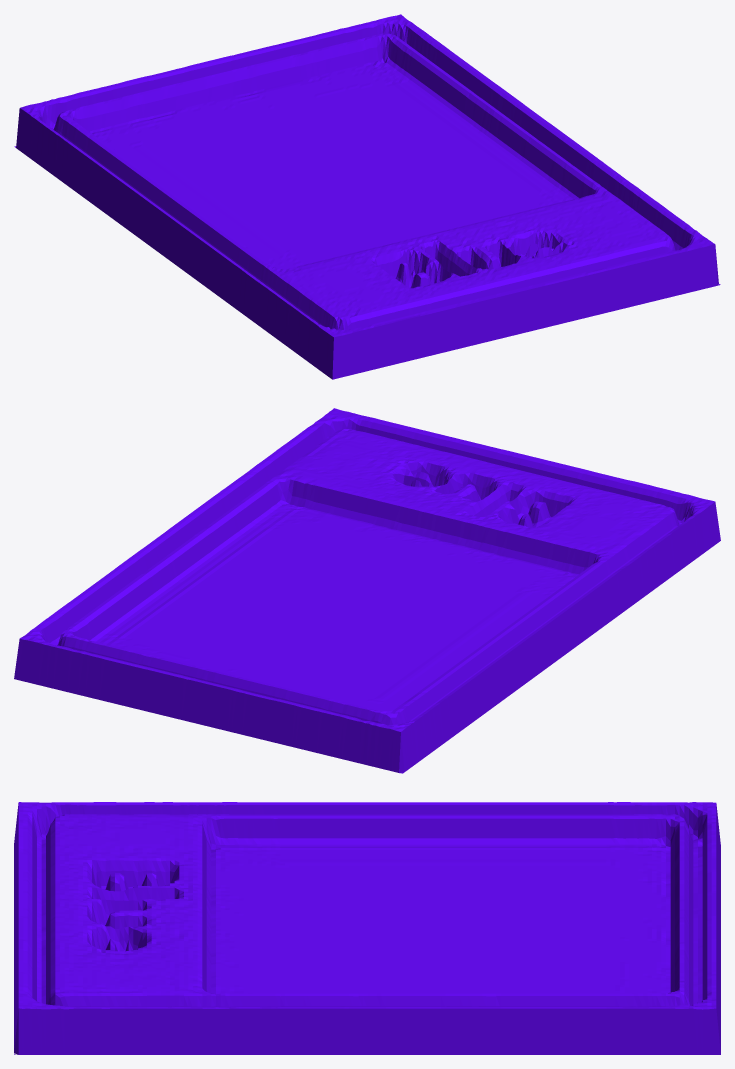
The picture shows the model from 3 angles, top to bottom: view 1: azimuth 30°, elevation 25°; view 2: azimuth 150°, elevation 25°; view 3: azimuth 270°, elevation 25°; orthographic projection. The views are drawn at different scales.
Parts seen in each view (by area): view 1: imagetostl_mesh0; view 2: imagetostl_mesh0; view 3: imagetostl_mesh0.
Part boxes in pixels (x1,y1,x2,y2): imagetostl_mesh0: [14, 14, 720, 379]; imagetostl_mesh0: [14, 408, 720, 773]; imagetostl_mesh0: [14, 802, 720, 1054].
Size of the model in its own units: 2564 by 254 by 3640.
